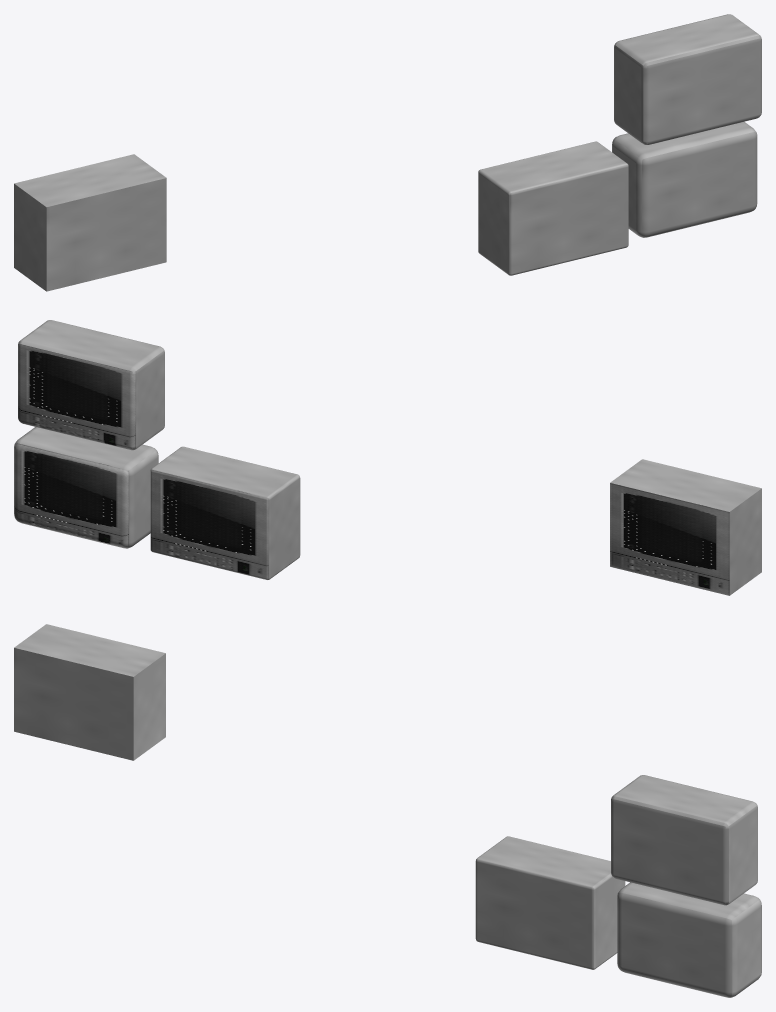
Rendered from PSx Micro Wave.fbx.
The picture shows the model from 3 angles, top to bottom: view 1: azimuth 30°, elevation 25°; view 2: azimuth 150°, elevation 25°; view 3: azimuth 330°, elevation 25°; orthographic projection.
Parts seen in each view (by area): view 1: pCube1, pCube6, pCube5, pCube4; view 2: pCube1, pCube6, pCube5, pCube4; view 3: pCube1, pCube6, pCube5, pCube4.
Part boxes in pixels (bbox=[...]): pCube1: bbox=[14, 154, 166, 291]; pCube6: bbox=[478, 141, 628, 275]; pCube5: bbox=[614, 14, 761, 144]; pCube4: bbox=[612, 122, 757, 237]; pCube1: bbox=[610, 459, 761, 595]; pCube6: bbox=[150, 446, 300, 579]; pCube5: bbox=[18, 320, 164, 450]; pCube4: bbox=[14, 427, 158, 548]; pCube1: bbox=[14, 624, 165, 760]; pCube6: bbox=[475, 836, 625, 969]; pCube5: bbox=[611, 775, 757, 905]; pCube4: bbox=[617, 882, 761, 997].
Bounding box in the file's own units: 9.4 × 2.31 × 0.8326.
1 material, 1 textured.
